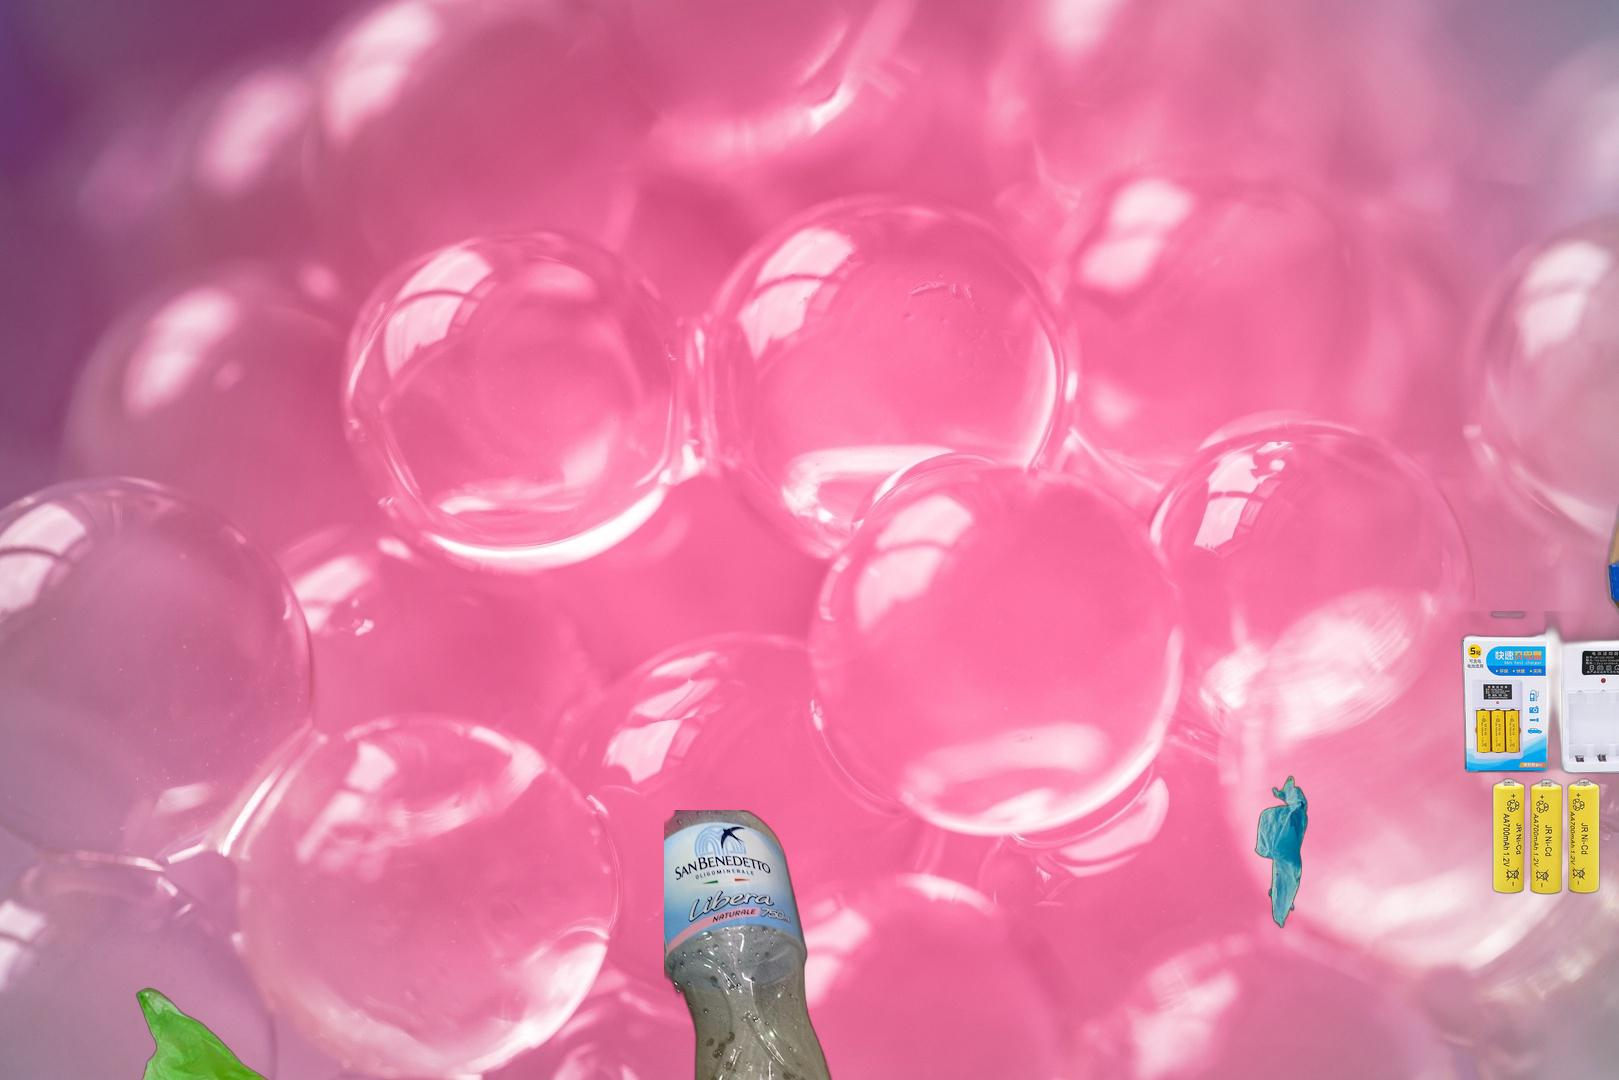battery: (1451, 611, 1619, 897)
plastic-bag: (61, 985, 292, 1080), (1253, 773, 1312, 931)
plastic-bottles: (664, 810, 855, 1080)
trashbox-cardboard: (1596, 284, 1619, 1080)
